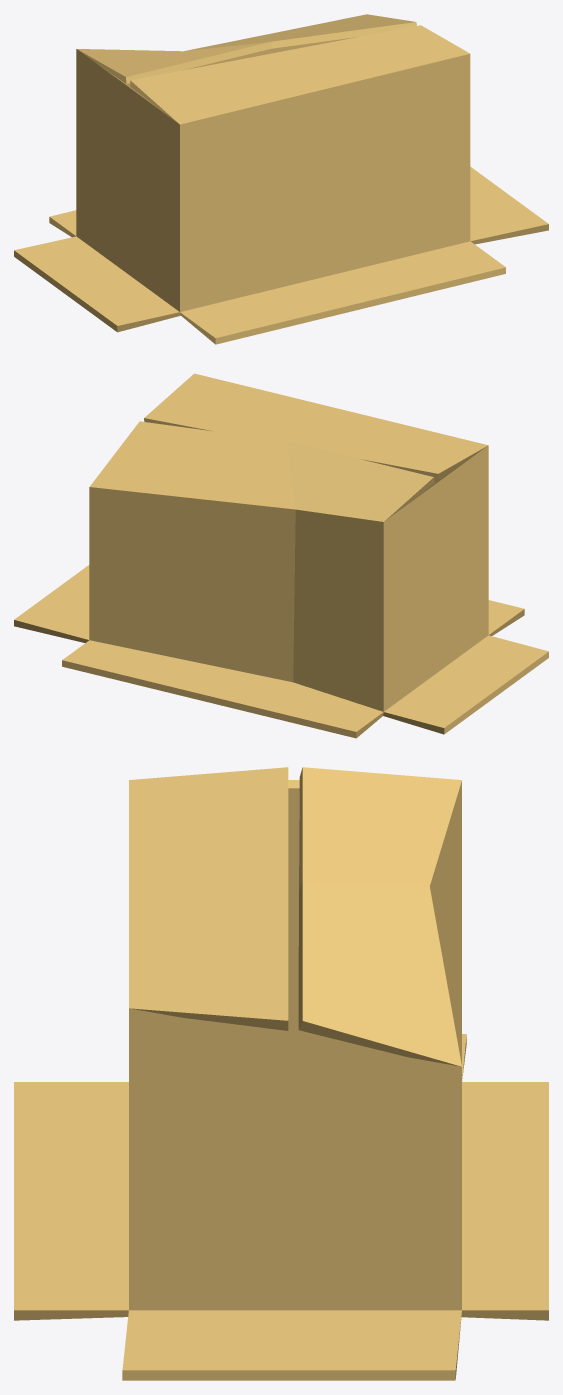
3 views of the same model, one above another, from view 1: azimuth 30°, elevation 25°; view 2: azimuth 150°, elevation 25°; view 3: azimuth 270°, elevation 25° (orthographic). The views are drawn at different scales.
Parts seen in each view (by area): view 1: Box_02; view 2: Box_02; view 3: Box_02.
Part boxes in pixels (x1,y1,x2,y2): Box_02: (14,14,548,344); Box_02: (14,373,548,738); Box_02: (14,767,548,1380).
Bounding box in the file's own units: 1.4 × 0.9392 × 0.6299.
